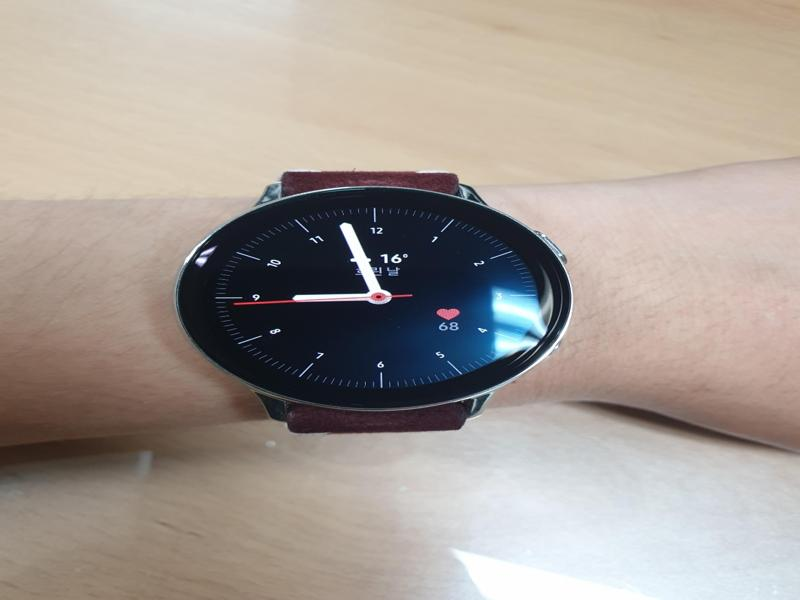watch: (175, 168, 577, 438)
